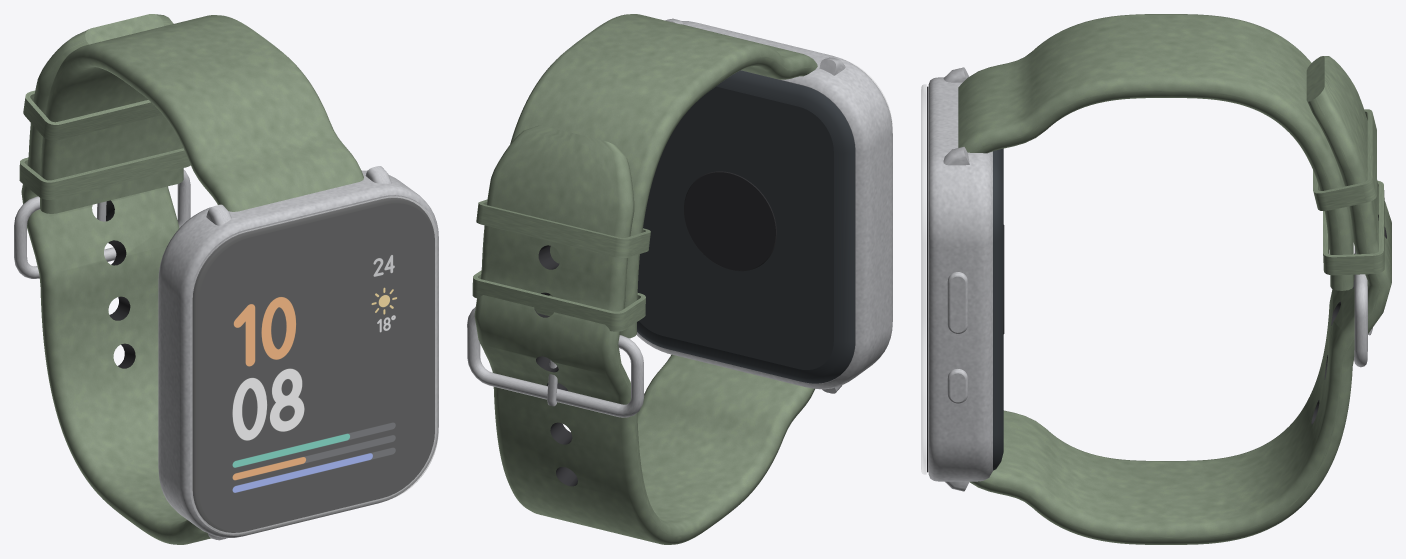
3 renders of one model, left to right at view 1: azimuth 30°, elevation 25°; view 2: azimuth 150°, elevation 25°; view 3: azimuth 270°, elevation 25°, orthographic. The views are drawn at different scales.
Visible parts, largest first — view 1: Cover glass, Display panel, Band, buckle piece, Band, hole piece, Aluminium case, Strap keepers, Tang buckle, Band lugs; view 2: Band, hole piece, Polycarbonate back, Band, buckle piece, Aluminium case, Optical sensor window, Strap keepers, Tang buckle; view 3: Band, hole piece, Band, buckle piece, Aluminium case, Strap keepers, Polycarbonate back, Cover glass, Side buttons, Tang buckle, Band lugs, Display panel.
Part boxes in pixels (x1,y1,x2,y2): Cover glass: (192,196,438,535); Display panel: (192,197,434,532); Band, buckle piece: (40,15,363,213); Band, hole piece: (21,14,210,544); Aluminium case: (158,170,438,538); Strap keepers: (19,90,190,199); Tang buckle: (14,170,190,278); Band lugs: (206,166,391,540); Band, hole piece: (474,125,814,544); Polycarbonate back: (637,70,855,383); Band, buckle piece: (510,14,817,338); Aluminium case: (636,21,892,389); Optical sensor window: (684,171,776,271); Strap keepers: (472,199,650,331); Tang buckle: (467,307,644,417); Band, hole piece: (969,56,1391,544); Band, buckle piece: (958,14,1353,290); Aluminium case: (928,77,992,481); Strap keepers: (1313,109,1384,275); Polycarbonate back: (993,148,1003,470); Cover glass: (921,84,926,474); Side buttons: (947,272,967,403); Tang buckle: (1354,247,1372,367); Band lugs: (943,67,969,491); Display panel: (927,86,928,472).
Bounding box in the file's own units: 0.0372 × 0.0619 × 0.0564.
7 materials, 7 textured.
